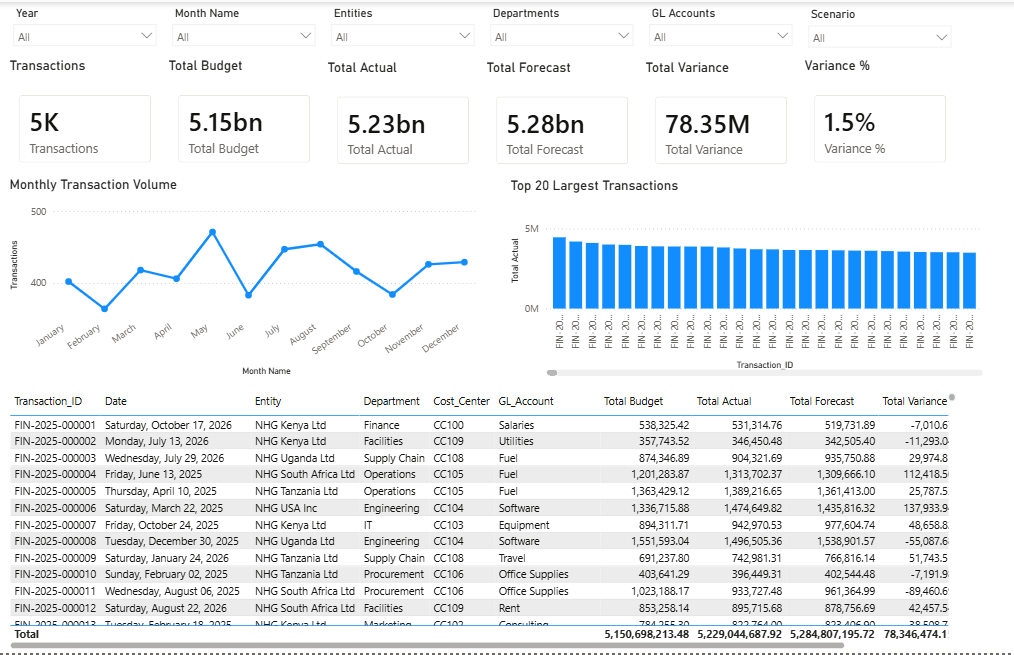

What the dashboard file says about the page in this screenshot:
{"tool":"powerbi","page":{"name":"Transaction Explorer","canvas":[1280,820],"ordinal":5},"visuals":[{"type":"slicer","fields":{"Values":["Calendar.Year"]},"box":[9.4,0,200,85],"z":0},{"type":"slicer","fields":{"Values":["Calendar.Month Name"]},"box":[209.8,0,200,85],"z":1},{"type":"slicer","fields":{"Values":["GL Accounts.Column1"]},"box":[810.7,0,200,85],"z":2},{"type":"slicer","fields":{"Values":["Entities.Column1"]},"box":[410.1,0,200,85],"z":3},{"type":"slicer","fields":{"Values":["Financials.Scenario"]},"box":[1011,1.9,200,85],"z":4},{"type":"slicer","fields":{"Values":["Departments.Column1"]},"box":[610.4,0,200,85],"z":5},{"type":"cardVisual","title":"Transactions","fields":{"Data":["Measure.Transactions"]},"box":[9.4,69.9,200,150],"z":6},{"type":"cardVisual","title":"Total Forecast","fields":{"Data":["Measure.Total Forecast"]},"box":[610.4,71.8,200,150],"z":7},{"type":"cardVisual","title":"Variance %","fields":{"Data":["Measure.Variance %"]},"box":[1011,69.9,200,150],"z":8},{"type":"cardVisual","title":"Total Actual","fields":{"Data":["Measure.Total Actual"]},"box":[410.1,71.8,200,150],"z":12},{"type":"cardVisual","title":"Total Budget","fields":{"Data":["Measure.Total Budget"]},"box":[209.8,69.9,200,150],"z":13},{"type":"cardVisual","title":"Total Variance","fields":{"Data":["Measure.Total Variance"]},"box":[810.7,71.8,200,150],"z":14},{"type":"lineChart","title":"Monthly Transaction Volume","fields":{"Category":["Dim_Calendar.Month Name"],"Y":["Measure.Transactions"]},"box":[9.4,219.2,600.9,257],"z":15},{"type":"clusteredColumnChart","title":"Top 20 Largest Transactions","fields":{"Category":["Fact_Financials.Transaction_ID"],"Y":["Measure.Total Actual"]},"box":[640.6,221.1,604.7,255.1],"z":16},{"type":"tableEx","fields":{"Values":["Fact_Financials.Transaction_ID","Fact_Financials.Date","Fact_Financials.Entity","Fact_Financials.Department","Fact_Financials.Cost_Center","Fact_Financials.GL_Account","Measure.Total Budget","Measure.Total Actual","Measure.Total Forecast","Measure.Total Variance","Measure.Variance %","Fact_Financials.Scenario"]},"box":[9.4,487.6,1201.9,332.6],"z":17}]}

Visuals, with their boxes in screenshot pixels (x1, y1, x2, y2), scaled from the page's 1280x820 canvas onto the 1014x655 screenshot:
slicer - Calendar.Year: <region>7, 0, 166, 68</region>
slicer - Calendar.Month Name: <region>166, 0, 325, 68</region>
slicer - GL Accounts.Column1: <region>642, 0, 801, 68</region>
slicer - Entities.Column1: <region>325, 0, 483, 68</region>
slicer - Financials.Scenario: <region>801, 2, 959, 69</region>
slicer - Departments.Column1: <region>484, 0, 642, 68</region>
"Transactions" cardVisual: <region>7, 56, 166, 176</region>
"Total Forecast" cardVisual: <region>484, 57, 642, 177</region>
"Variance %" cardVisual: <region>801, 56, 959, 176</region>
"Total Actual" cardVisual: <region>325, 57, 483, 177</region>
"Total Budget" cardVisual: <region>166, 56, 325, 176</region>
"Total Variance" cardVisual: <region>642, 57, 801, 177</region>
"Monthly Transaction Volume" lineChart: <region>7, 175, 483, 380</region>
"Top 20 Largest Transactions" clusteredColumnChart: <region>507, 177, 987, 380</region>
tableEx - Fact_Financials.Transaction_ID x Fact_Financials.Date: <region>7, 389, 960, 654</region>
